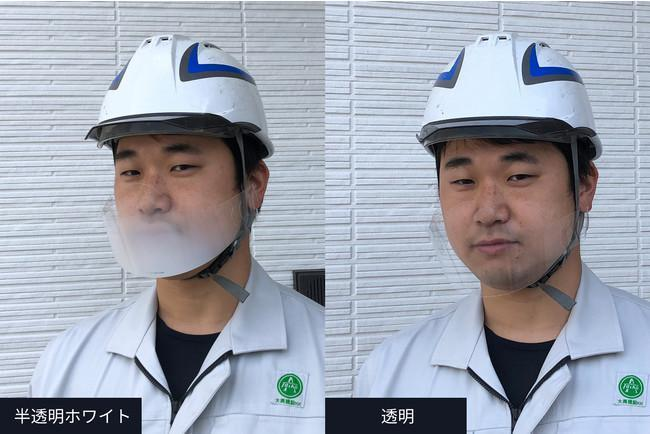helmet: (415, 33, 603, 158), (83, 35, 276, 154)
